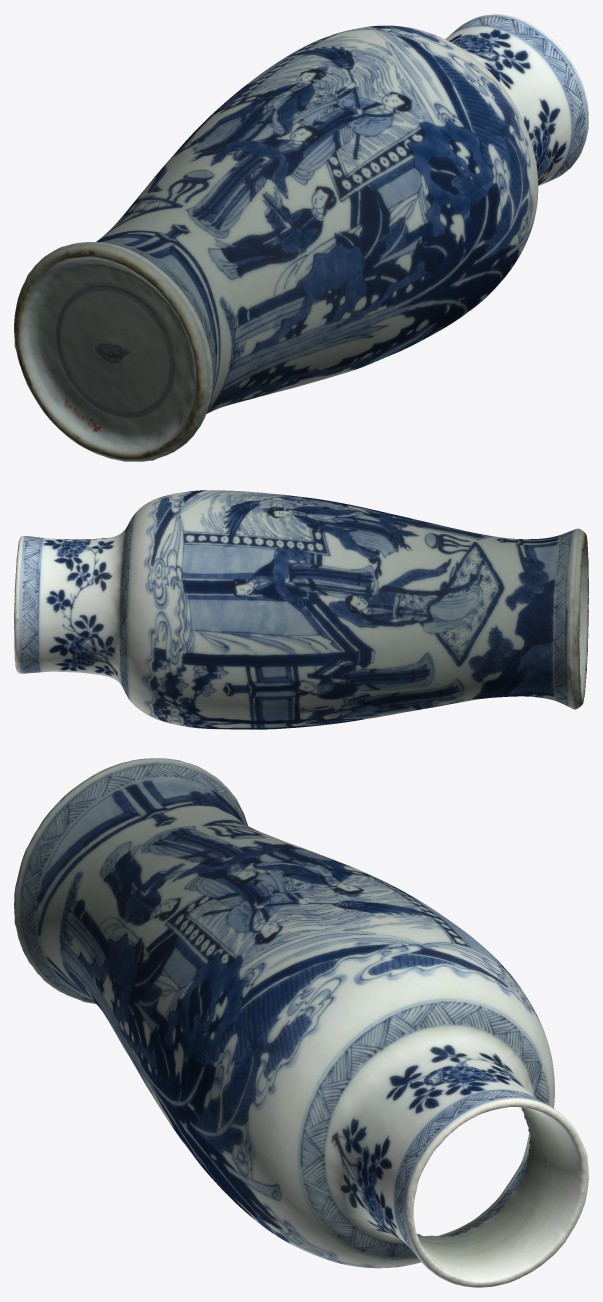
File: preview.glb
The picture shows the model from 3 angles, top to bottom: view 1: azimuth 30°, elevation 25°; view 2: azimuth 150°, elevation 25°; view 3: azimuth 270°, elevation 25°; orthographic projection. The views are drawn at different scales.
Bounding box in the file's own units: 0.4105 × 0.1708 × 0.278.
Materials: 1 (1 with a texture image).
